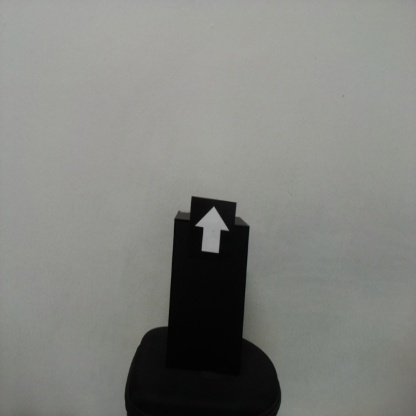id_1: (192, 199, 236, 268)
